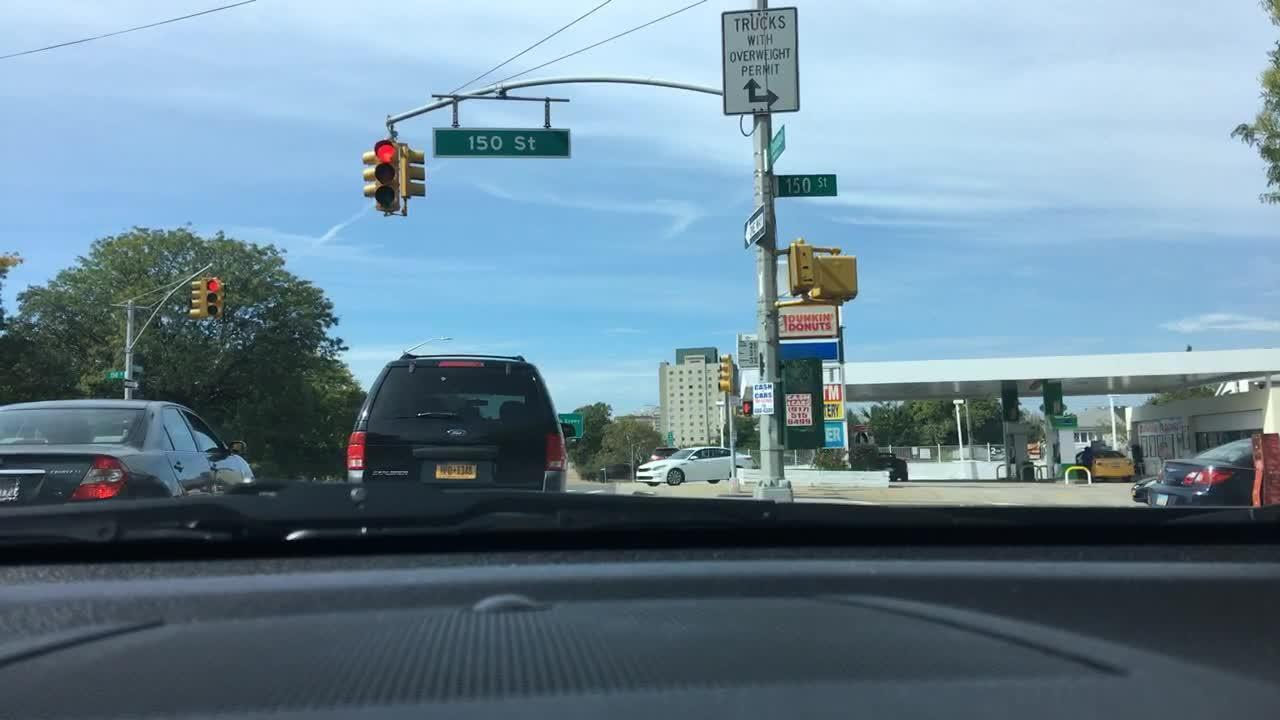ford: (446, 424, 470, 439)
